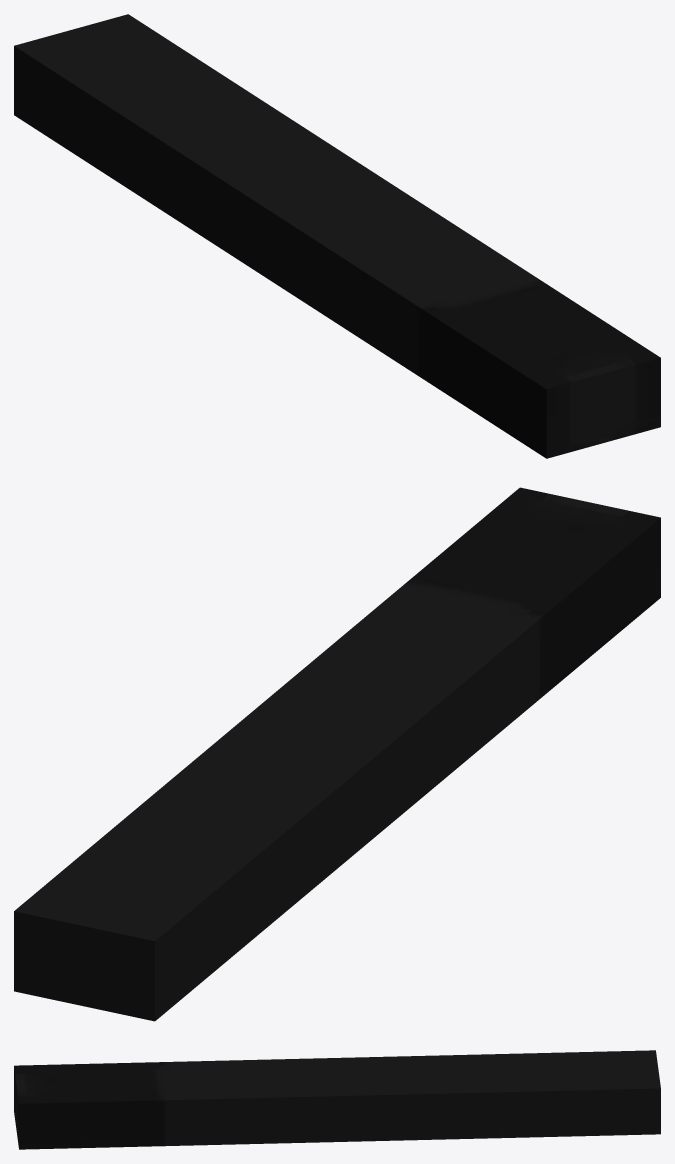
The model's file is frame__back_upright_0.glb.
3 views of the same model, one above another, from view 1: azimuth 30°, elevation 25°; view 2: azimuth 150°, elevation 25°; view 3: azimuth 270°, elevation 25° (orthographic). The views are drawn at different scales.
Visible parts, largest first — view 1: world; view 2: world; view 3: world.
Boxes of the visible parts, x1,y1,x2,y2 form: world: [14, 14, 660, 458]; world: [14, 487, 660, 1021]; world: [14, 1050, 660, 1149].
Size of the model in its own units: 0.0699 by 0.028 by 0.3578.
1 material, 1 textured.
